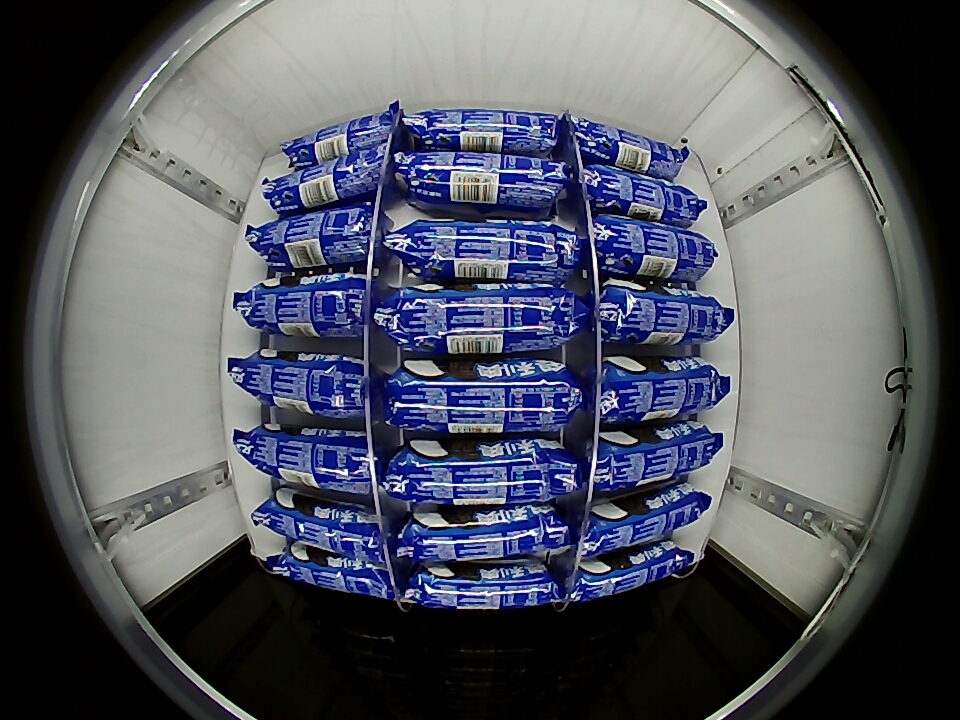aoliao: (376, 281, 588, 357), (381, 358, 585, 436), (388, 211, 579, 284), (384, 437, 580, 507), (395, 150, 571, 211), (397, 506, 569, 565), (234, 427, 375, 496), (579, 486, 704, 561), (241, 351, 369, 419), (240, 270, 368, 338), (249, 201, 375, 269), (599, 280, 726, 346), (582, 428, 719, 489), (599, 357, 718, 427), (264, 493, 387, 560), (405, 560, 562, 612), (591, 214, 714, 280), (566, 112, 687, 178), (400, 106, 563, 154), (582, 160, 702, 225), (568, 542, 682, 606), (276, 548, 398, 601), (264, 163, 389, 214), (281, 116, 394, 166)
